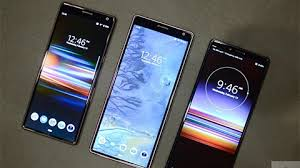sony: (13, 2, 118, 146), (161, 36, 272, 168)
